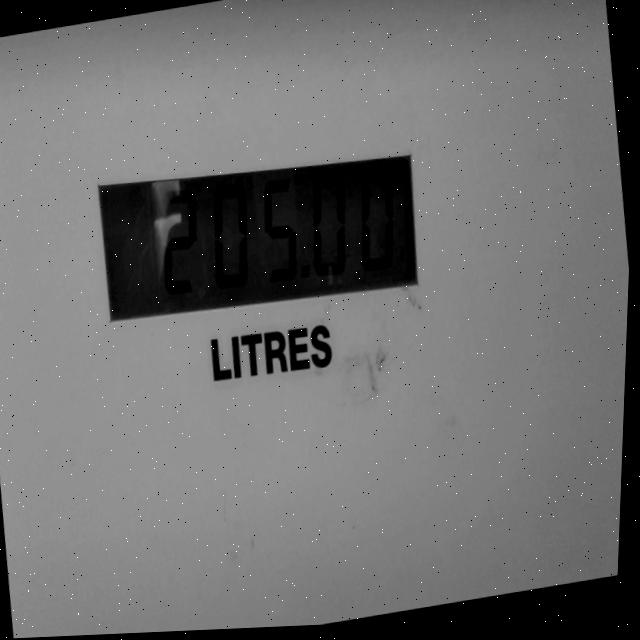.: (297, 261, 319, 296)
0: (195, 174, 266, 297), (350, 157, 414, 284), (302, 166, 358, 292)
2: (153, 186, 213, 301)
5: (251, 169, 310, 310)
